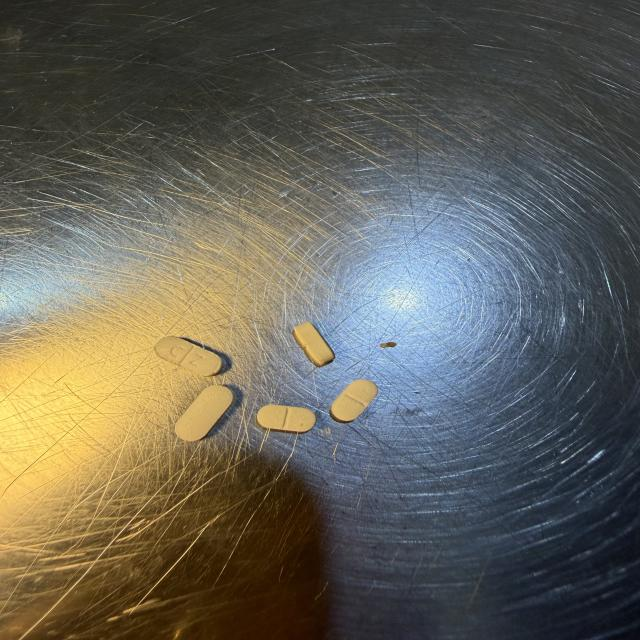pill: (176, 386, 233, 441), (155, 337, 222, 376), (330, 380, 377, 423), (293, 322, 334, 366), (257, 405, 315, 433), (380, 342, 396, 347)
